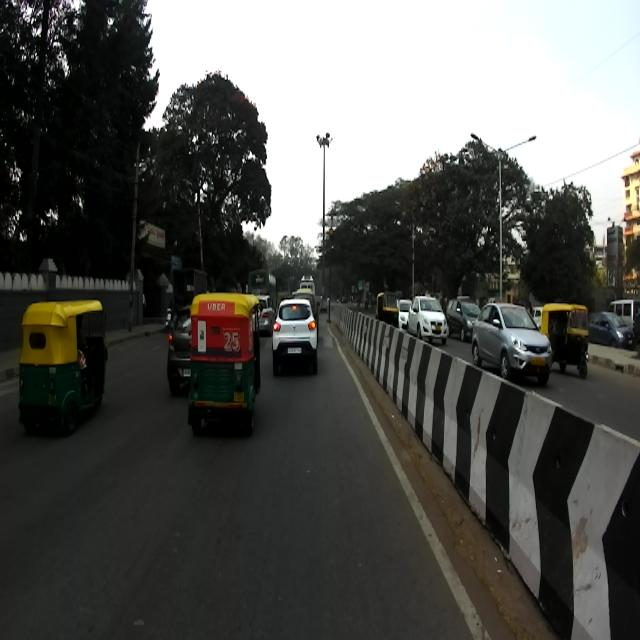auto ahead at: (22, 296, 108, 444), (188, 290, 263, 438)
car ahead at: (270, 296, 324, 380)
